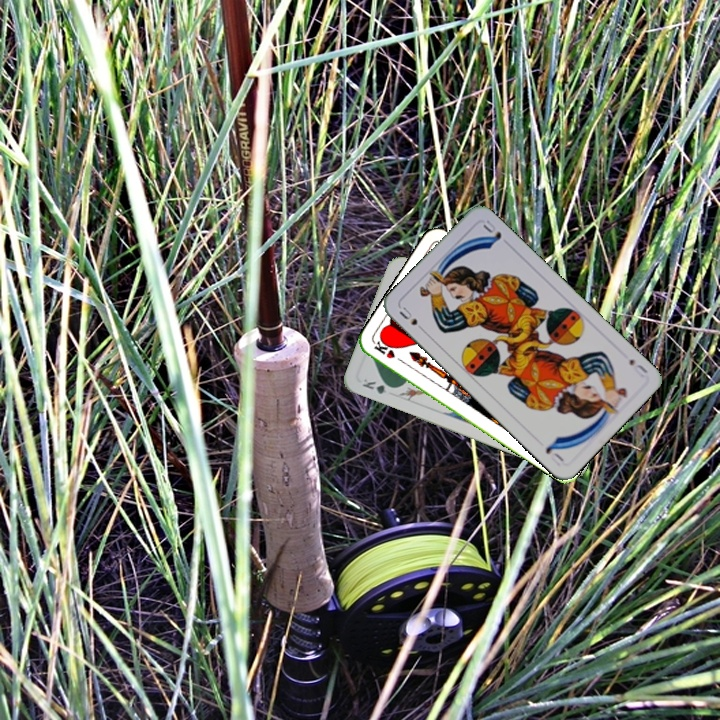GK: (358, 374, 398, 397)
HK: (370, 337, 407, 366)
SU: (395, 302, 428, 335), (625, 355, 650, 380)
